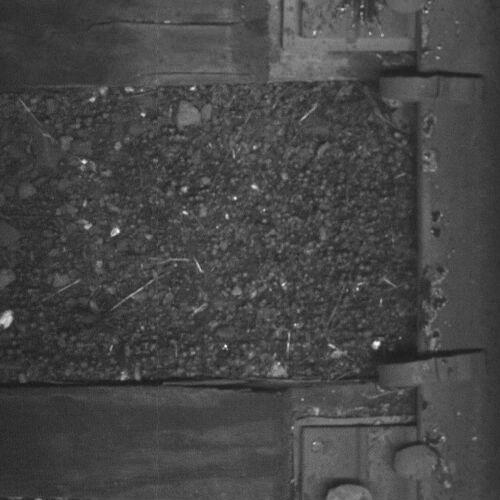crutch: (375, 350, 487, 387), (378, 72, 487, 100)
tie_wood: (1, 382, 421, 500), (1, 1, 419, 89)
